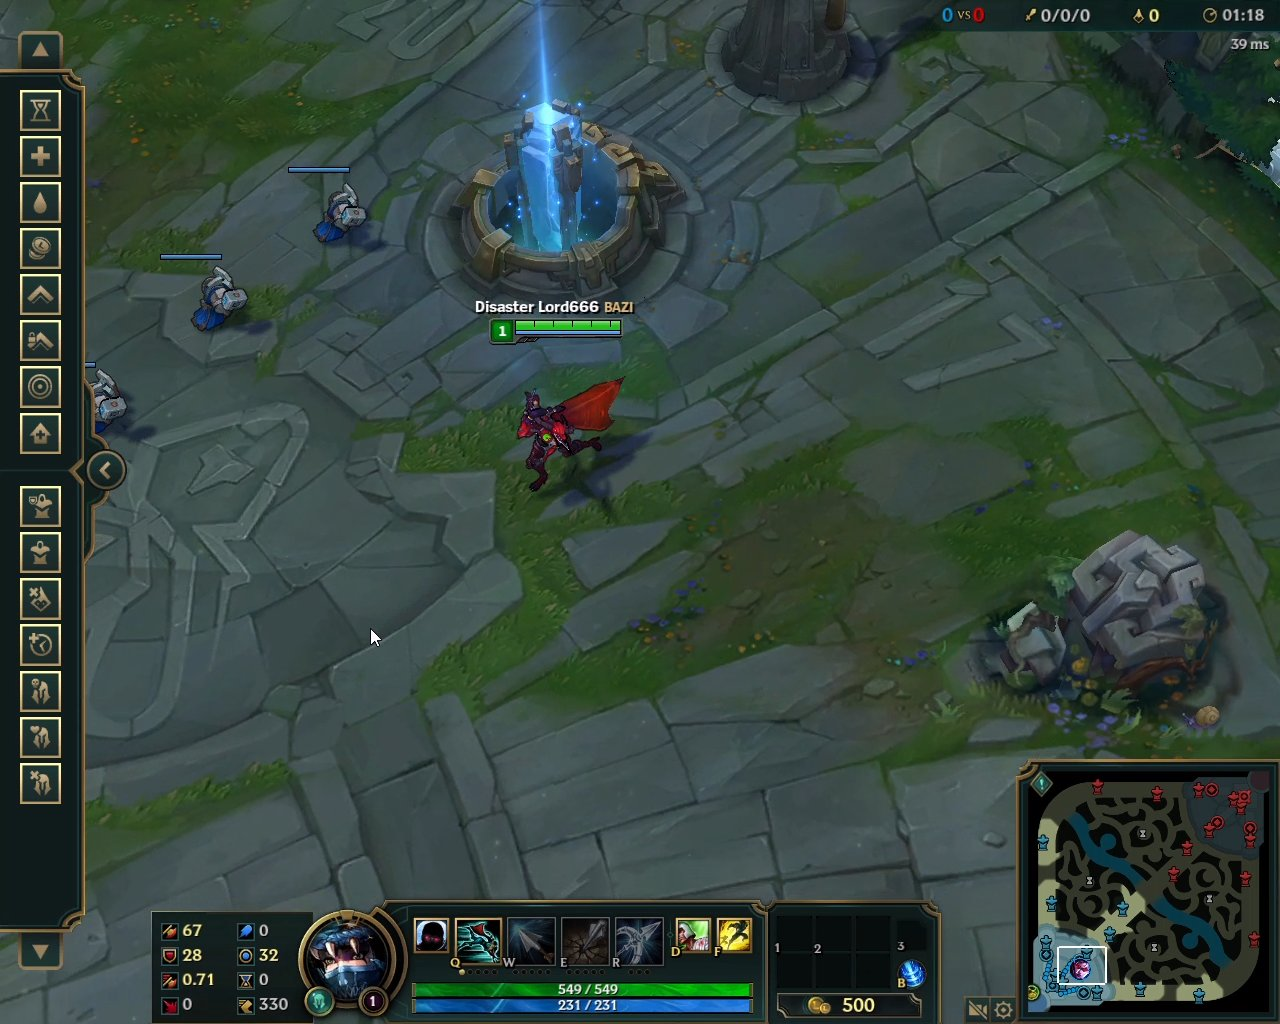Vayne: (509, 369, 630, 497)
